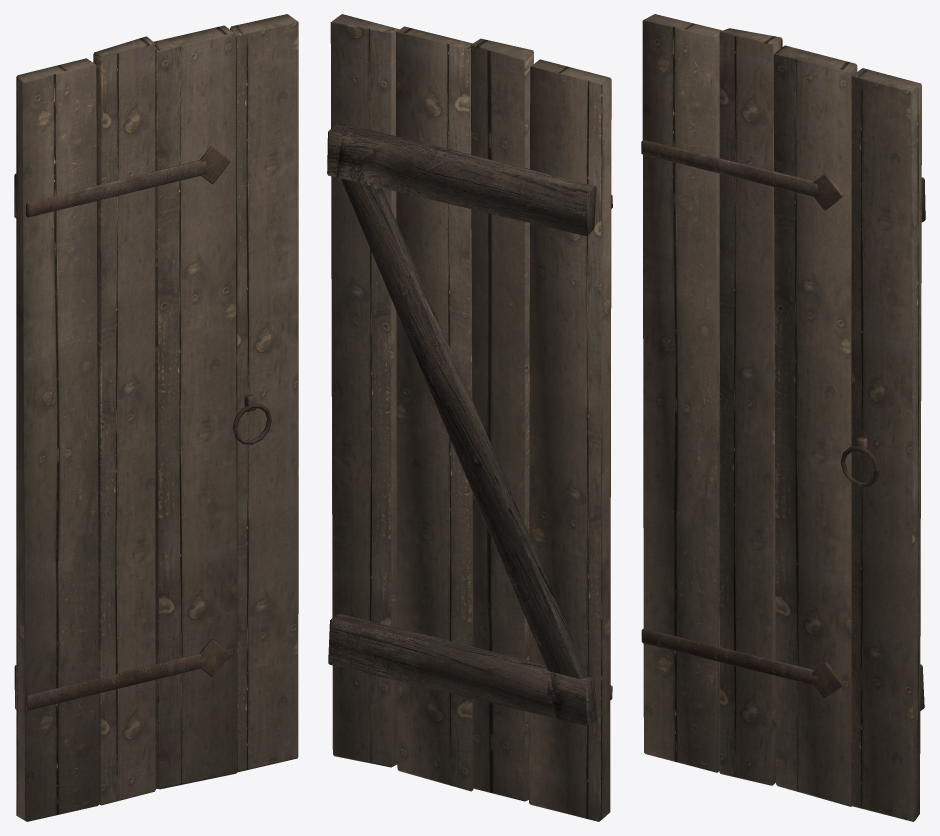
The model's file is kit_door_leaf_p.glb.
3 views of the same model, side by side, from view 1: azimuth 30°, elevation 25°; view 2: azimuth 150°, elevation 25°; view 3: azimuth 330°, elevation 25° (orthographic).
Parts seen in each view (by area): view 1: kit_door_leaf_p; view 2: kit_door_leaf_p; view 3: kit_door_leaf_p.
Part boxes in pixels (box(x1,y1,x2,y2)): kit_door_leaf_p: box(14, 14, 298, 821); kit_door_leaf_p: box(327, 14, 612, 821); kit_door_leaf_p: box(641, 14, 925, 821).
Bounding box in the file's own units: 0.9524 × 2.49 × 0.1405.
Materials: 1 (1 with a texture image).
